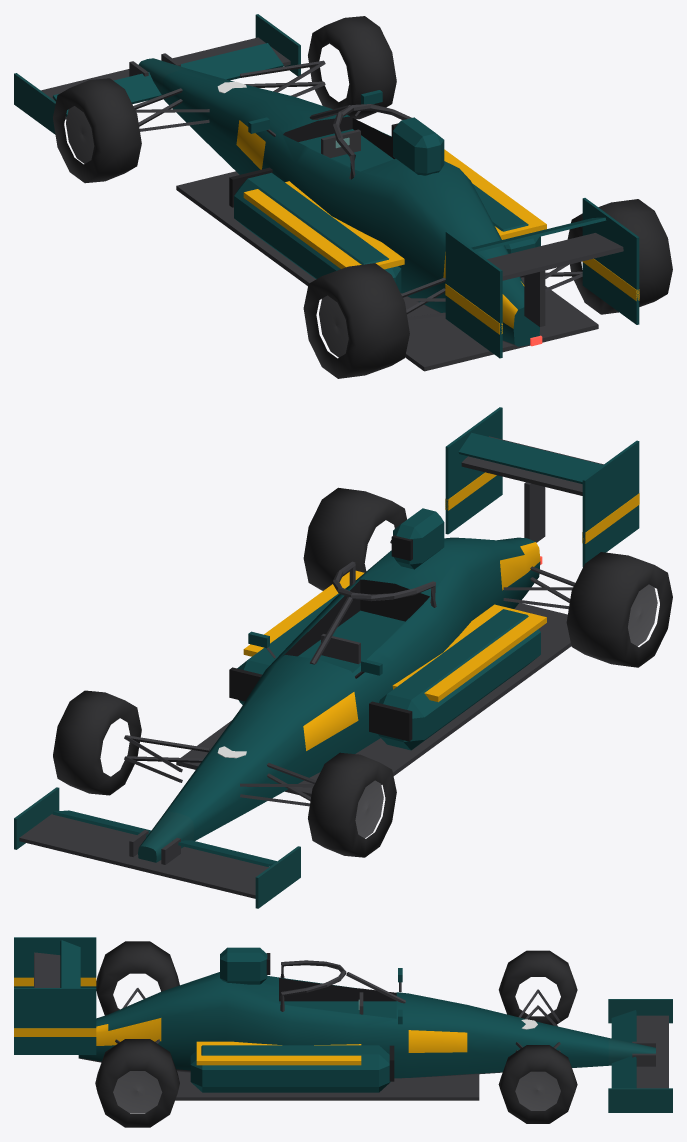
The model's file is formula_lod1.glb.
3 renders of one model, top to bottom at view 1: azimuth 30°, elevation 25°; view 2: azimuth 150°, elevation 25°; view 3: azimuth 270°, elevation 25°, orthographic. The views are drawn at different scales.
Visible parts, largest first — view 1: body, wheel_rl, wheel_fl, wheel_fr, wheel_rr, steering; view 2: body, wheel_rl, wheel_fl, wheel_fr, wheel_rr, steering; view 3: body, wheel_rr, wheel_fr, wheel_rl, wheel_fl.
Part boxes in pixels (x1=…): body: x1=14, y1=14, x2=639, y2=371; wheel_rl: x1=303, y1=263, x2=409, y2=378; wheel_fl: x1=53, y1=78, x2=141, y2=183; wheel_fr: x1=308, y1=16, x2=396, y2=119; wheel_rr: x1=567, y1=199, x2=672, y2=314; steering: x1=321, y1=129, x2=360, y2=157; body: x1=14, y1=407, x2=639, y2=908; wheel_rl: x1=566, y1=552, x2=672, y2=667; wheel_fl: x1=308, y1=752, x2=396, y2=857; wheel_fr: x1=53, y1=690, x2=141, y2=795; wheel_rr: x1=303, y1=487, x2=406, y2=590; steering: x1=321, y1=634, x2=360, y2=664; body: x1=14, y1=937, x2=672, y2=1112; wheel_rr: x1=95, y1=1039, x2=179, y2=1127; wheel_fr: x1=498, y1=1045, x2=577, y2=1123; wheel_rl: x1=96, y1=941, x2=179, y2=1015; wheel_fl: x1=498, y1=950, x2=577, y2=1025.
Bounding box in the file's own units: 2.36 × 1.13 × 5.6.
Materials: 2 (1 with a texture image).
